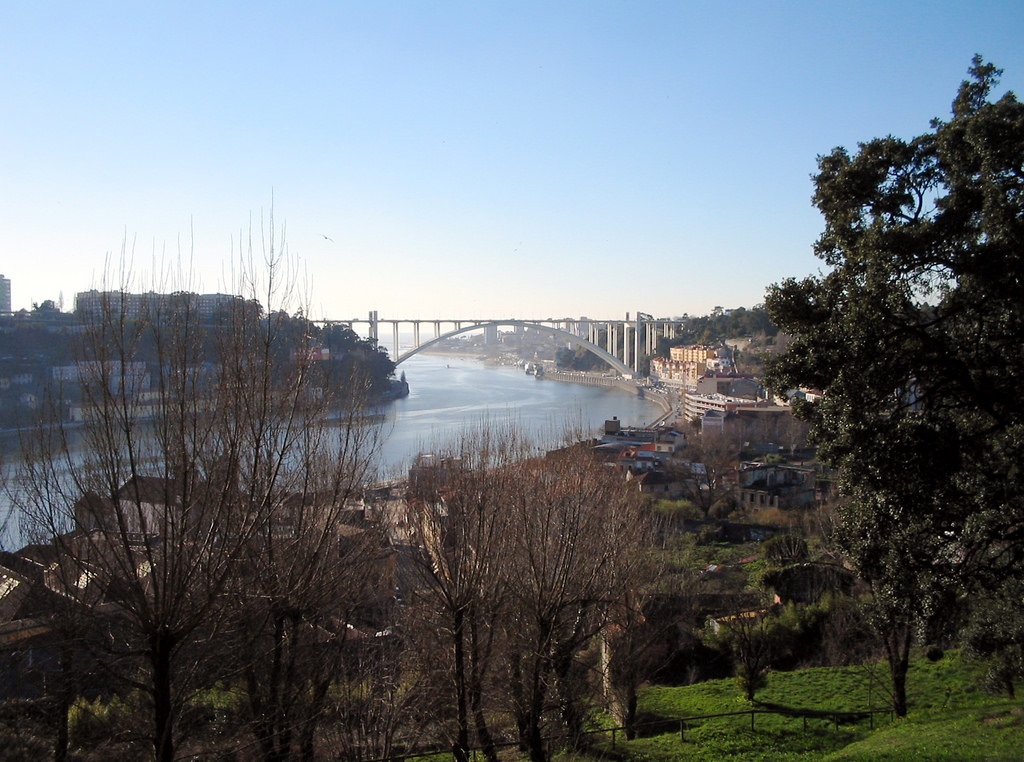arrabida: (305, 309, 684, 387)
